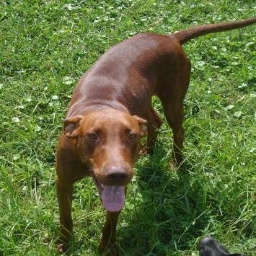dog: (56, 11, 192, 247)
